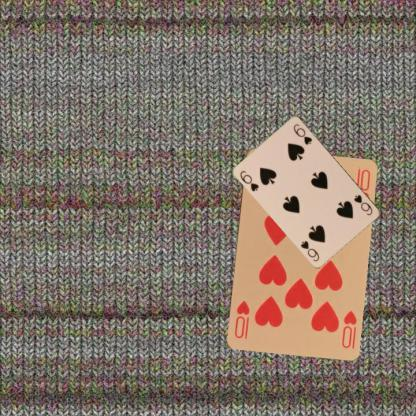10h: (339, 308, 358, 350)
6s: (238, 168, 260, 193), (352, 192, 374, 216)
